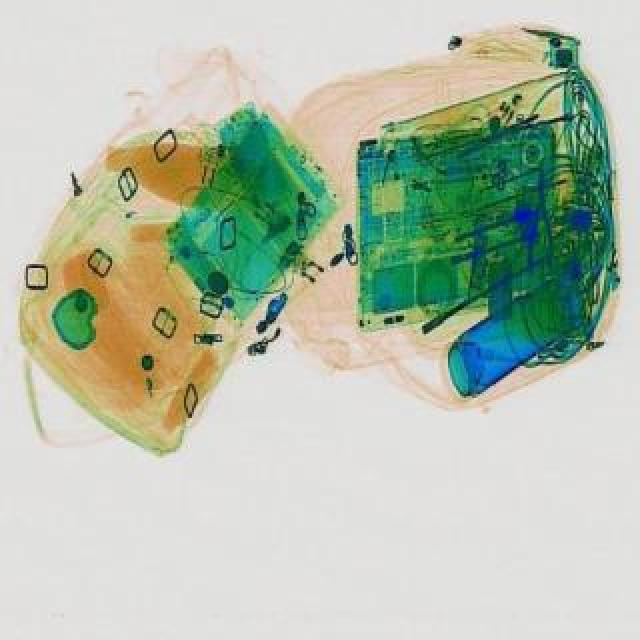wrench: (526, 162, 556, 280)
